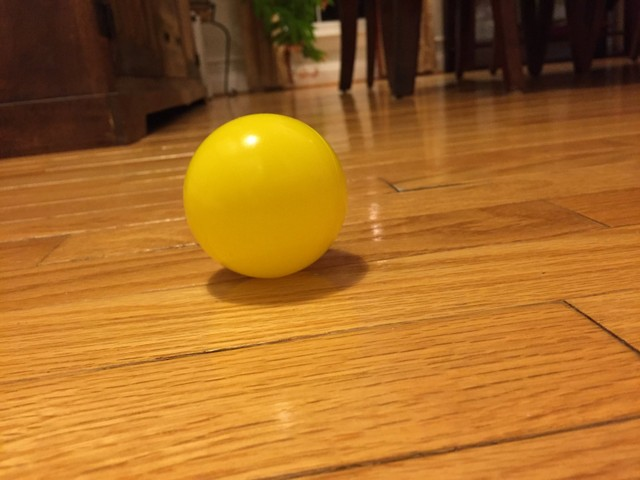Ball: (182, 112, 345, 278)
